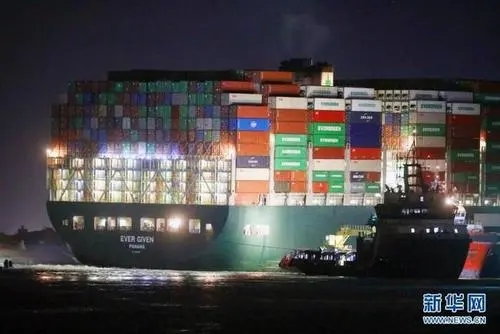Cargoship: (44, 57, 500, 266)
otherboat: (287, 161, 482, 280)
